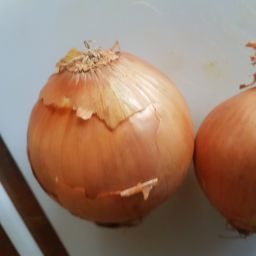Medium chopped onions: (6, 39, 256, 244), (20, 35, 195, 244), (185, 64, 256, 250)
